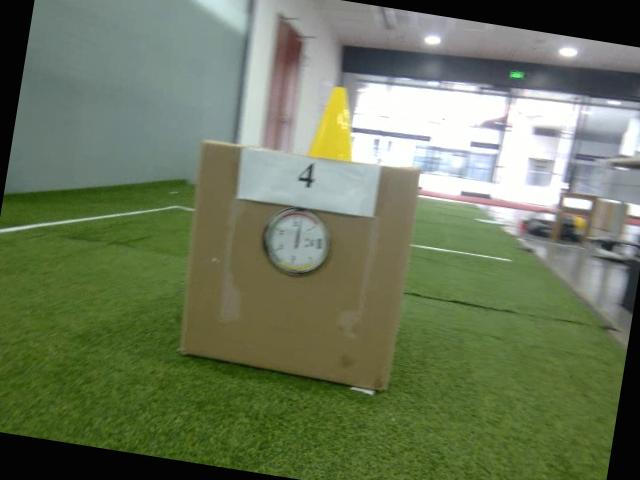4: (296, 160, 317, 190)
Dashboard: (258, 204, 336, 282)
ssi: (314, 238, 324, 251)
yellow_barrel: (305, 83, 362, 165)
